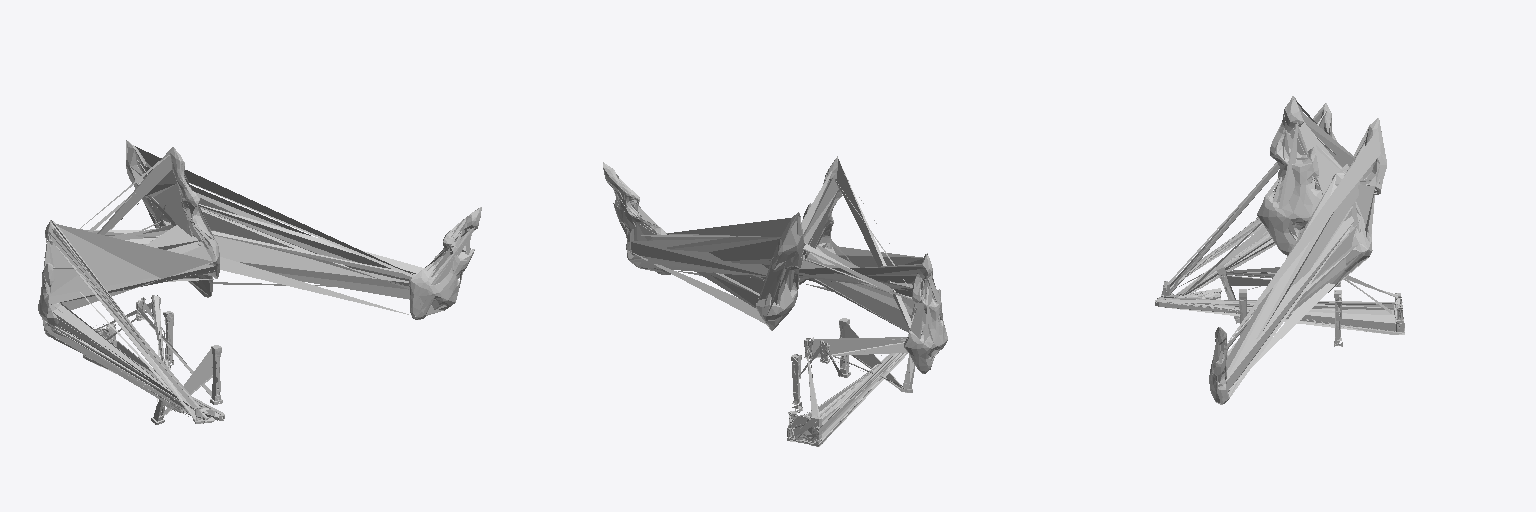
The model's file is cellDesert_ValleyEnd_Proxy-sharedassets3.assets-581.obj.
3 views of the same model, side by side, from view 1: azimuth 30°, elevation 25°; view 2: azimuth 150°, elevation 25°; view 3: azimuth 270°, elevation 25° (orthographic).
Visible parts, largest first — view 1: cellDesert_ValleyEnd_Proxy_2, cellDesert_ValleyEnd_Proxy_0, cellDesert_ValleyEnd_Proxy_1, cellDesert_ValleyEnd_Proxy_4, cellDesert_ValleyEnd_Proxy_3; view 2: cellDesert_ValleyEnd_Proxy_2, cellDesert_ValleyEnd_Proxy_0, cellDesert_ValleyEnd_Proxy_1, cellDesert_ValleyEnd_Proxy_4, cellDesert_ValleyEnd_Proxy_3; view 3: cellDesert_ValleyEnd_Proxy_2, cellDesert_ValleyEnd_Proxy_1, cellDesert_ValleyEnd_Proxy_0, cellDesert_ValleyEnd_Proxy_4, cellDesert_ValleyEnd_Proxy_3.
Boxes of the visible parts, x1=… form: cellDesert_ValleyEnd_Proxy_2: x1=44, y1=140, x2=474, y2=424; cellDesert_ValleyEnd_Proxy_0: x1=40, y1=150, x2=476, y2=423; cellDesert_ValleyEnd_Proxy_1: x1=83, y1=146, x2=476, y2=423; cellDesert_ValleyEnd_Proxy_4: x1=38, y1=141, x2=481, y2=336; cellDesert_ValleyEnd_Proxy_3: x1=41, y1=147, x2=472, y2=424; cellDesert_ValleyEnd_Proxy_2: x1=608, y1=156, x2=945, y2=446; cellDesert_ValleyEnd_Proxy_0: x1=603, y1=162, x2=947, y2=446; cellDesert_ValleyEnd_Proxy_1: x1=606, y1=171, x2=909, y2=441; cellDesert_ValleyEnd_Proxy_4: x1=603, y1=158, x2=947, y2=373; cellDesert_ValleyEnd_Proxy_3: x1=606, y1=157, x2=946, y2=446; cellDesert_ValleyEnd_Proxy_2: x1=1155, y1=96, x2=1404, y2=404; cellDesert_ValleyEnd_Proxy_1: x1=1162, y1=109, x2=1403, y2=403; cellDesert_ValleyEnd_Proxy_0: x1=1159, y1=103, x2=1404, y2=401; cellDesert_ValleyEnd_Proxy_4: x1=1209, y1=97, x2=1386, y2=403; cellDesert_ValleyEnd_Proxy_3: x1=1155, y1=110, x2=1404, y2=396.
Size of the model in its own units: 167 by 100 by 92.5.